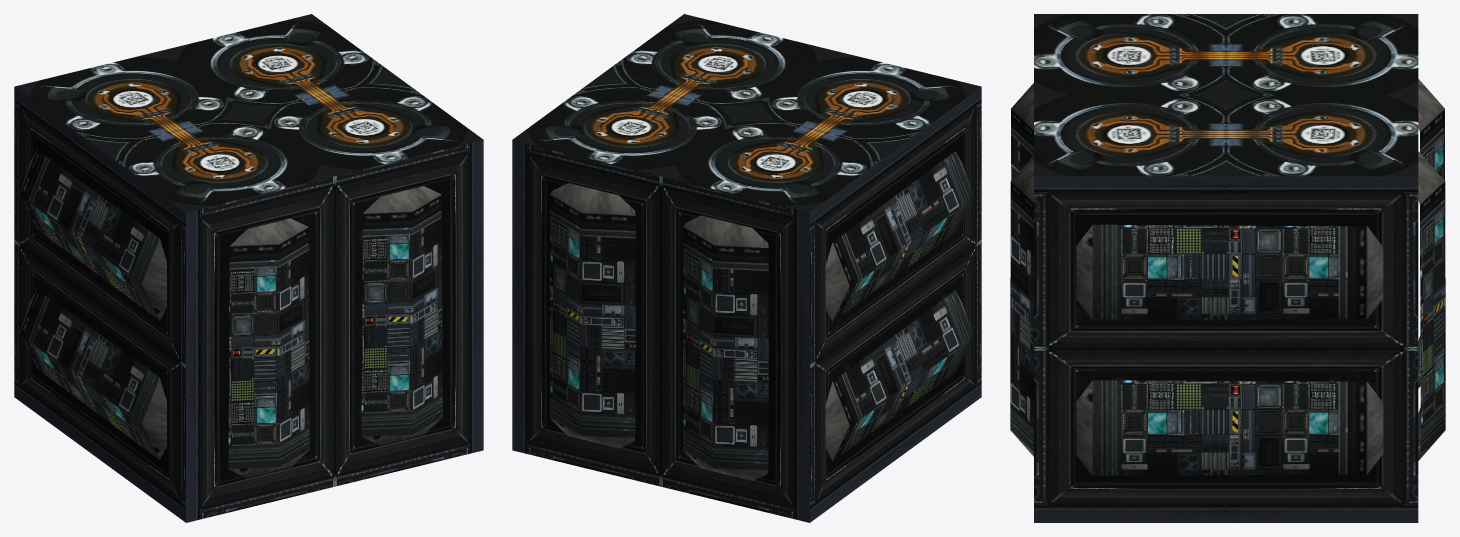
File: Battery_medium_02.FBX
3 renders of one model, left to right at view 1: azimuth 30°, elevation 25°; view 2: azimuth 150°, elevation 25°; view 3: azimuth 270°, elevation 25°, orthographic. The views are drawn at different scales.
Visible parts, largest first — view 1: Battery_medium_02, Liquid; view 2: Battery_medium_02, Liquid; view 3: Battery_medium_02, Liquid.
Part boxes in pixels (x1=…): Battery_medium_02: x1=14, y1=14, x2=483, y2=522; Liquid: x1=32, y1=159, x2=442, y2=449; Battery_medium_02: x1=512, y1=14, x2=981, y2=522; Liquid: x1=550, y1=160, x2=960, y2=451; Battery_medium_02: x1=1010, y1=14, x2=1445, y2=522; Liquid: x1=1010, y1=135, x2=1445, y2=475.
Size of the model in its own units: 145 by 129 by 147.
